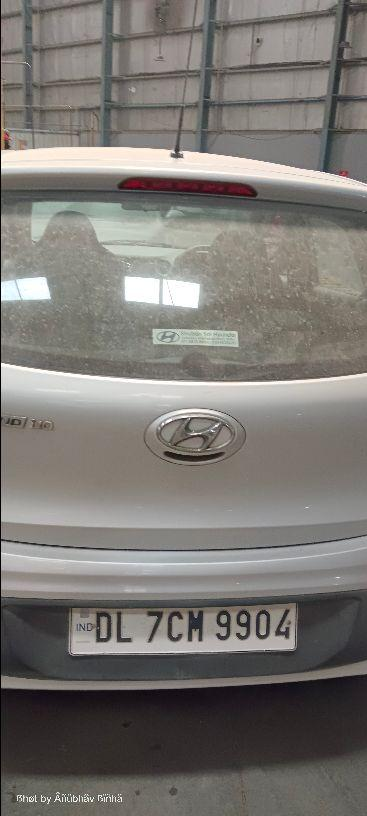license_plate: (66, 601, 298, 656)
